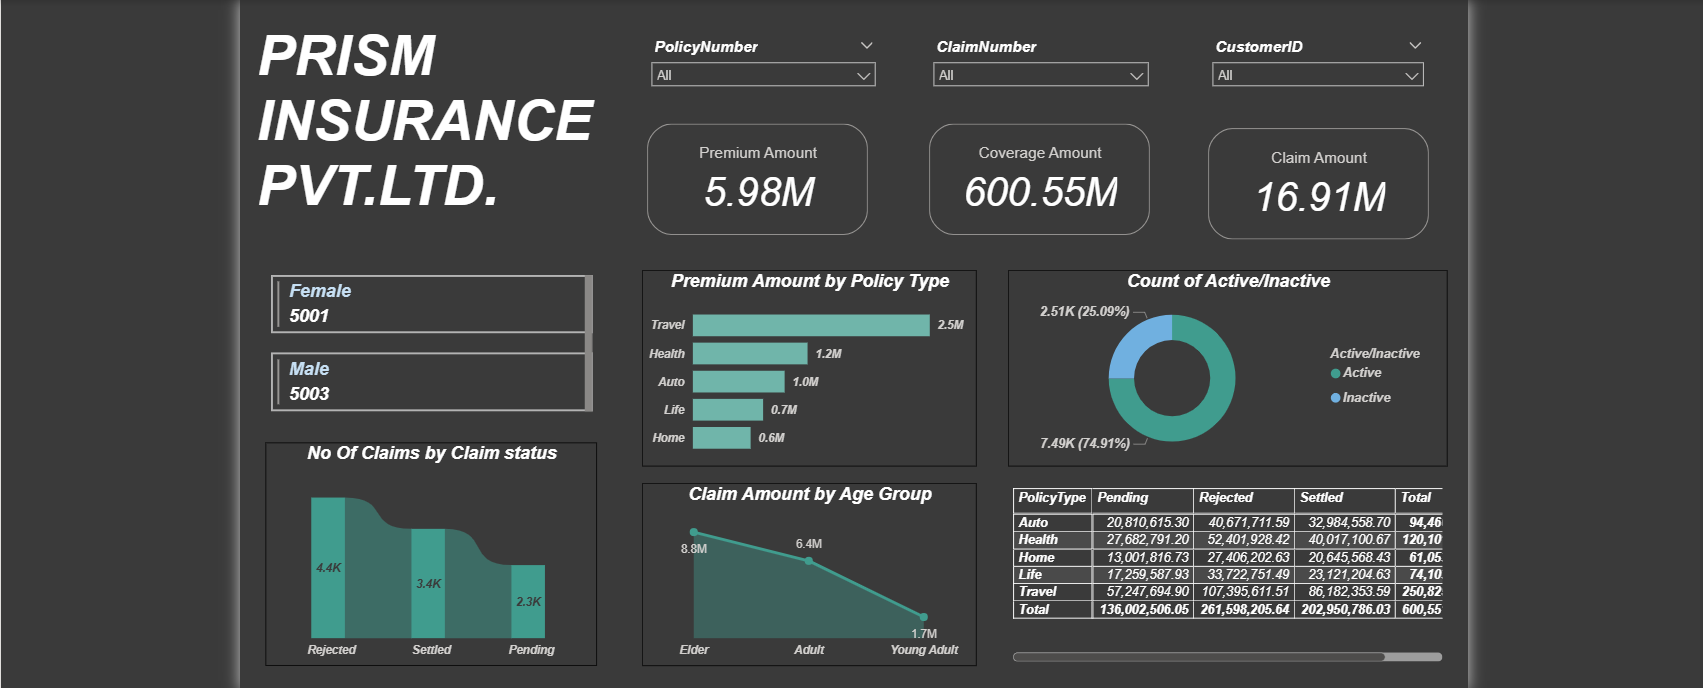

The page's visual inventory and layout, read from the dashboard file:
{"tool":"powerbi","page":{"name":"Page 1","canvas":[1280,720],"ordinal":0},"visuals":[{"type":"slicer","fields":{"Values":["InsuranceData.PolicyNumber"]},"box":[419.5,34,253.2,88.8],"z":0},{"type":"slicer","fields":{"Values":["InsuranceData.CustomerID"]},"box":[1003.5,34,240,88.8],"z":1000},{"type":"slicer","fields":{"Values":["InsuranceData.ClaimNumber"]},"box":[712.4,34,243.8,88.8],"z":2000},{"type":"textbox","box":[13.2,18.9,385.5,217.3],"z":3000},{"type":"cardVisual","fields":{"Data":["Sum(InsuranceData.PremiumAmount)"]},"box":[418.9,123.5,240.7,126.6],"z":4000},{"type":"cardVisual","fields":{"Data":["Sum(InsuranceData.CoverageAmount)"]},"box":[712.7,123.5,240.7,126.6],"z":5000},{"type":"cardVisual","fields":{"Data":["Sum(InsuranceData.ClaimAmount)"]},"box":[1003.4,128.2,240.7,126.6],"z":6000},{"type":"multiRowCard","fields":{"Values":["InsuranceData.Gender","CountNonNull(InsuranceData.Gender)"]},"box":[26.6,281.3,345.4,164.1],"z":7000},{"type":"ribbonChart","title":"No Of Claims by Claim status","fields":{"Category":["InsuranceData.ClaimStatus"],"Y":["CountNonNull(InsuranceData.ClaimStatus)"]},"box":[26.6,461.1,345.4,232.9],"z":8000},{"type":"barChart","title":"Premium Amount by Policy Type","fields":{"Category":["InsuranceData.PolicyType"],"Y":["Sum(InsuranceData.PremiumAmount)"]},"box":[418.9,281.3,348.5,204.8],"z":9000},{"type":"lineChart","fields":{"Category":["InsuranceData.Age Group"],"Y":["Sum(InsuranceData.ClaimAmount)"]},"box":[418.9,503.3,348.5,190.7],"z":10000},{"type":"donutChart","title":"Count of Active/Inactive","fields":{"Category":["InsuranceData.Active/Inactive"],"Y":["CountNonNull(InsuranceData.Active/Inactive)"]},"box":[800.2,281.3,458,204.8],"z":11000},{"type":"pivotTable","fields":{"Values":["Sum(InsuranceData.CoverageAmount)"],"Rows":["InsuranceData.PolicyType"],"Columns":["InsuranceData.ClaimStatus"]},"box":[800.2,503.3,458,190.7],"z":12000}]}

Visuals, with their boxes on the page's 1280x720 design canvas (x1, y1, x2, y2). These are canvas units, not pixel positions in the 1703x688 screenshot, which may show the page scaled, cropped or inside an application window:
slicer - InsuranceData.PolicyNumber: [left=420, top=34, right=673, bottom=123]
slicer - InsuranceData.CustomerID: [left=1004, top=34, right=1244, bottom=123]
slicer - InsuranceData.ClaimNumber: [left=712, top=34, right=956, bottom=123]
textbox: [left=13, top=19, right=399, bottom=236]
cardVisual - Sum(InsuranceData.PremiumAmount): [left=419, top=124, right=660, bottom=250]
cardVisual - Sum(InsuranceData.CoverageAmount): [left=713, top=124, right=953, bottom=250]
cardVisual - Sum(InsuranceData.ClaimAmount): [left=1003, top=128, right=1244, bottom=255]
multiRowCard - InsuranceData.Gender x CountNonNull(InsuranceData.Gender): [left=27, top=281, right=372, bottom=445]
"No Of Claims by Claim status" ribbonChart: [left=27, top=461, right=372, bottom=694]
"Premium Amount by Policy Type" barChart: [left=419, top=281, right=767, bottom=486]
lineChart - InsuranceData.Age Group x Sum(InsuranceData.ClaimAmount): [left=419, top=503, right=767, bottom=694]
"Count of Active/Inactive" donutChart: [left=800, top=281, right=1258, bottom=486]
pivotTable - Sum(InsuranceData.CoverageAmount) x InsuranceData.PolicyType: [left=800, top=503, right=1258, bottom=694]
